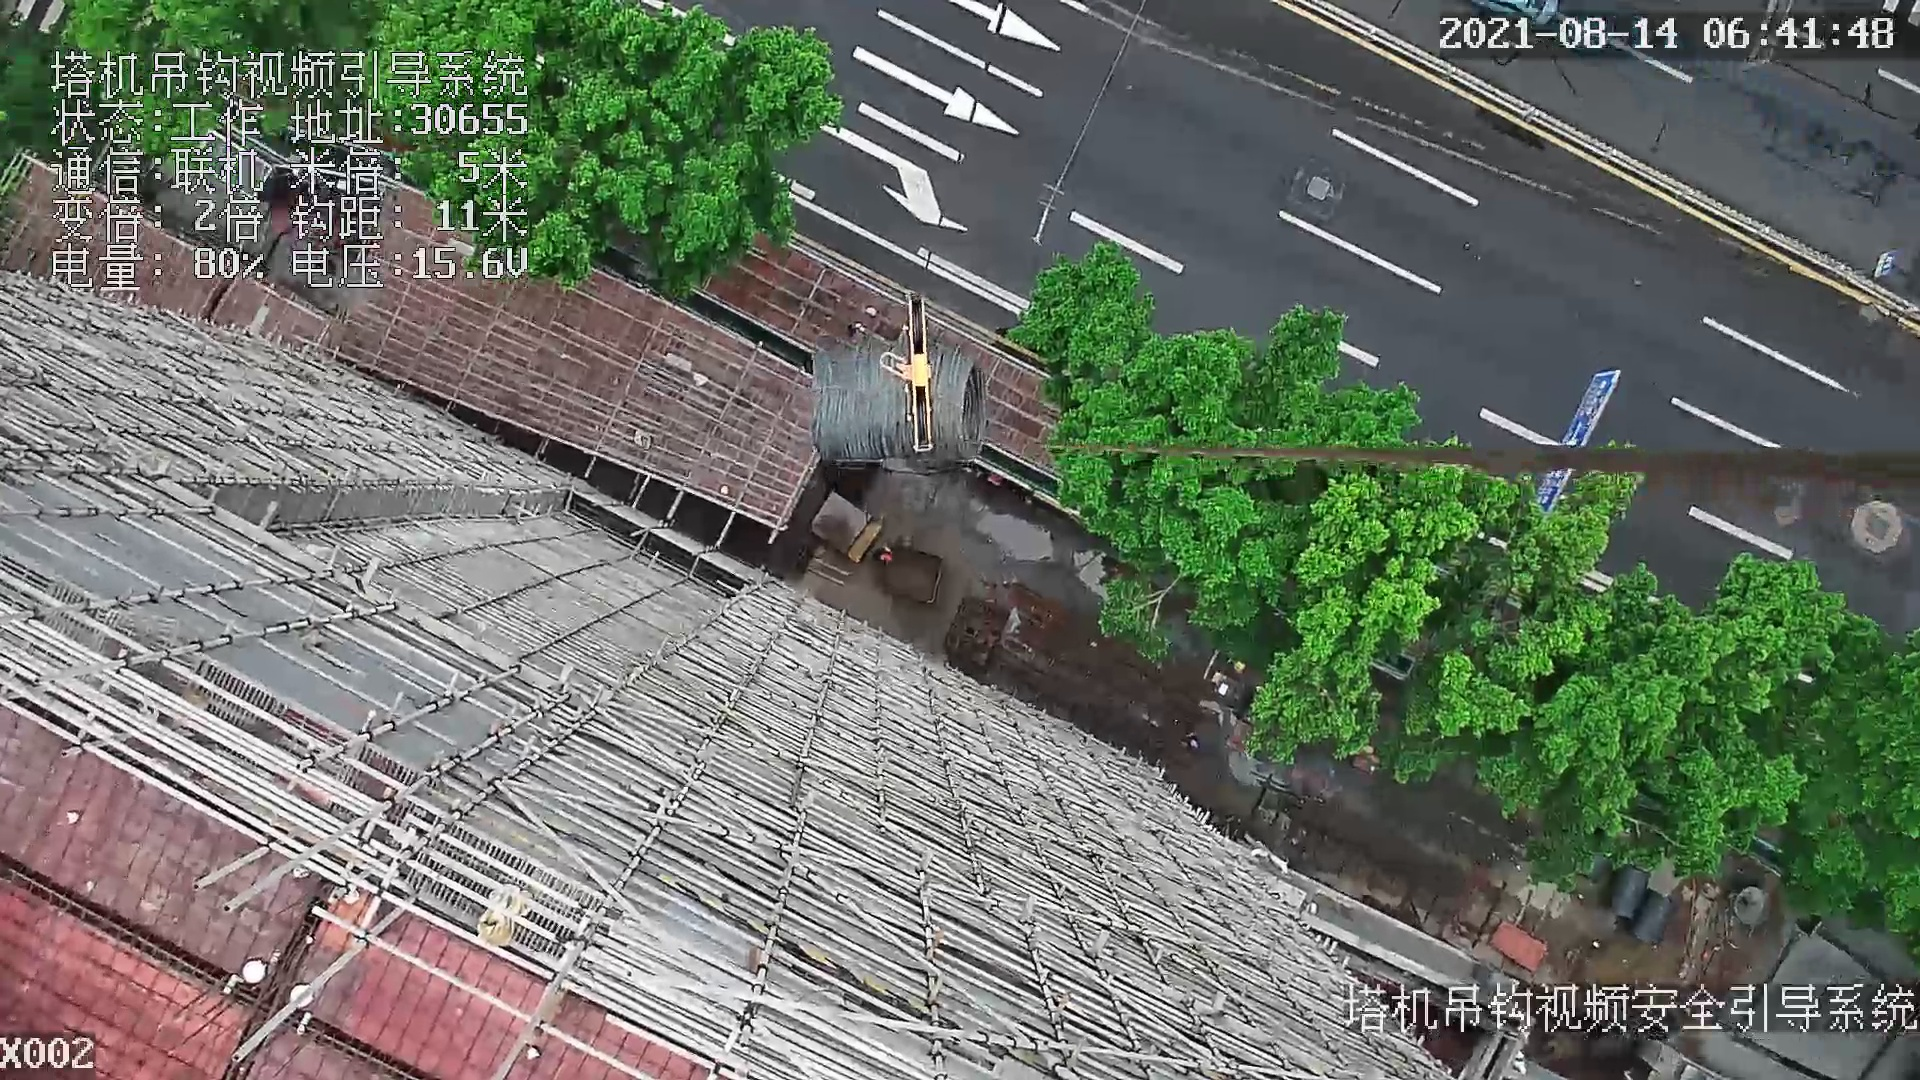hook: (879, 287, 936, 453)
person: (1180, 730, 1201, 754), (872, 547, 892, 570)
